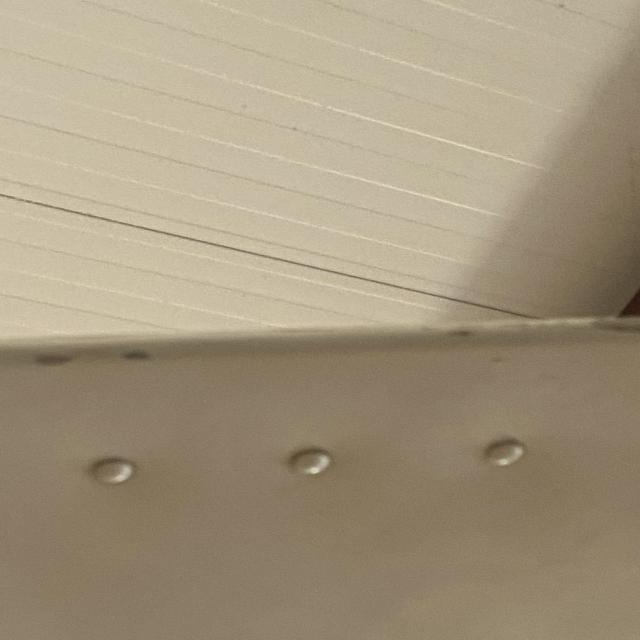Paint-off: (599, 315, 640, 333), (32, 350, 71, 365), (119, 348, 150, 359)
